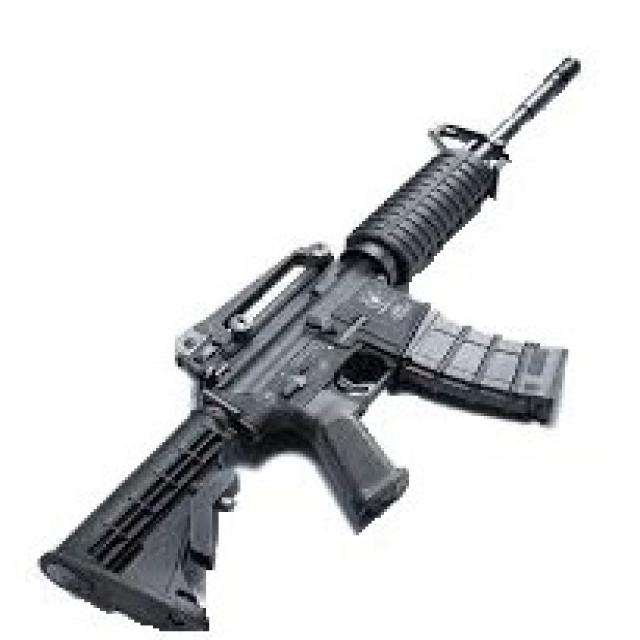rifle: (27, 50, 589, 631)
